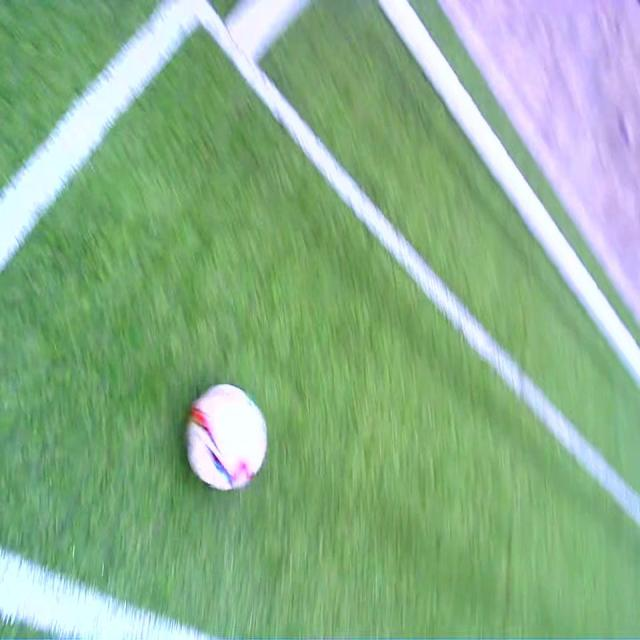ball: (185, 382, 266, 492)
